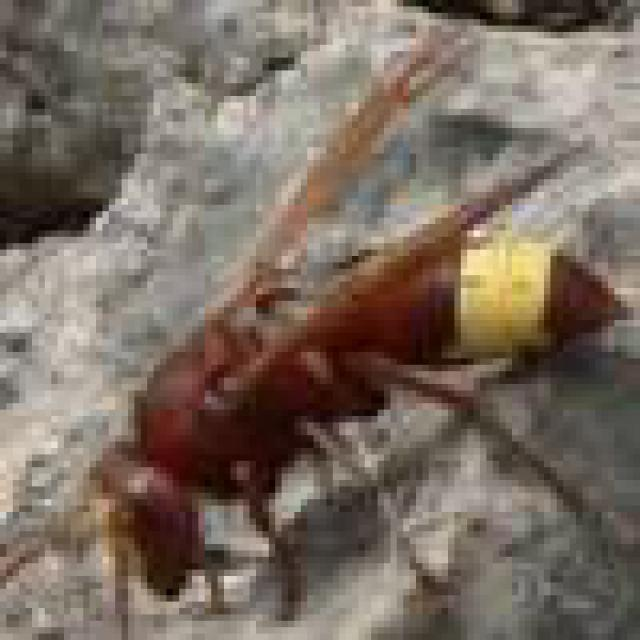Vespa Orientalis: (57, 6, 634, 628)
